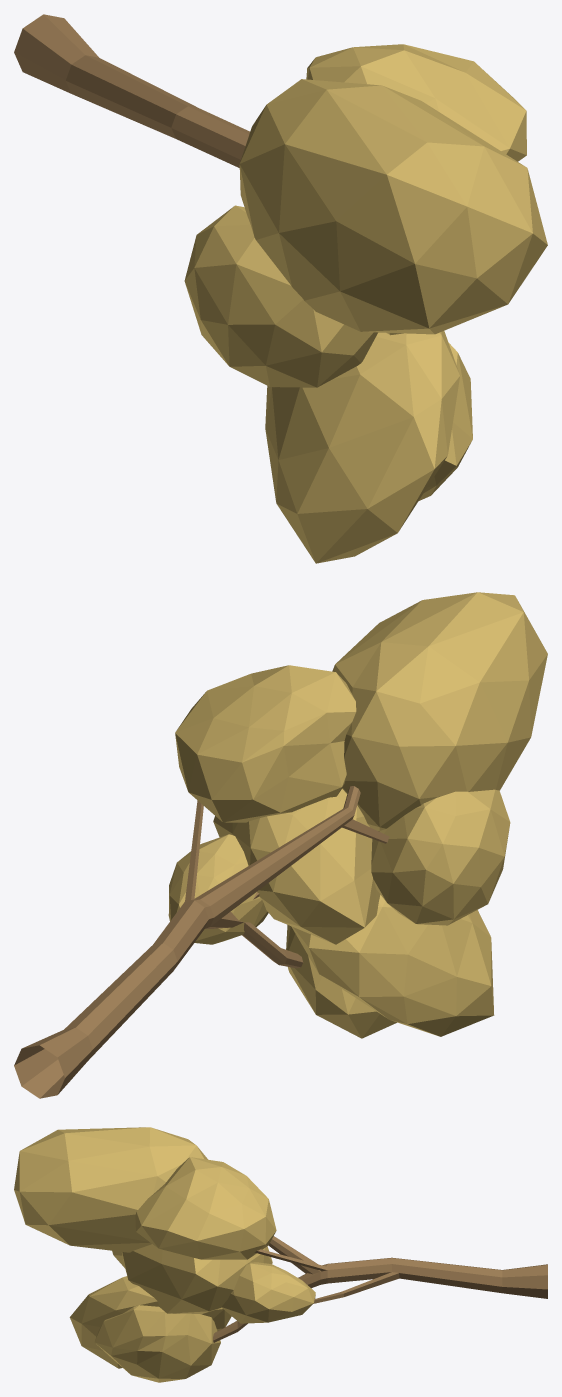
Rendered from tree-2-temperate.glb.
3 views of the same model, one above another, from view 1: azimuth 30°, elevation 25°; view 2: azimuth 150°, elevation 25°; view 3: azimuth 270°, elevation 25° (orthographic). The views are drawn at different scales.
Parts seen in each view (by area): view 1: Tree_2_0; view 2: Tree_2_0; view 3: Tree_2_0.
Part boxes in pixels (<box>): Tree_2_0: <box>14,14,547,563</box>; Tree_2_0: <box>14,592,547,1098</box>; Tree_2_0: <box>14,1127,547,1382</box>.
Size of the model in its own units: 2.56 by 3.34 by 6.69.
